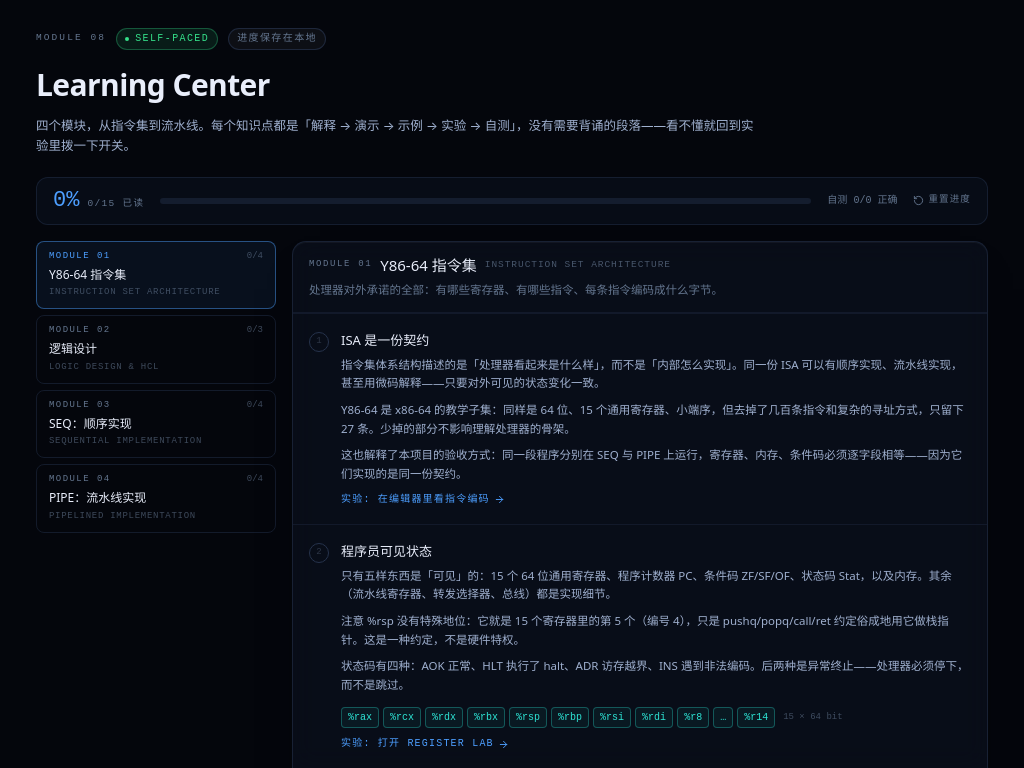
Test case: Learning Center › 标记已读会更新进度
Expected: the text "0%" is shown, [53,190,79,212]
Click the button named "标记为已读".
click(319, 342)  # box [309,332,329,352]
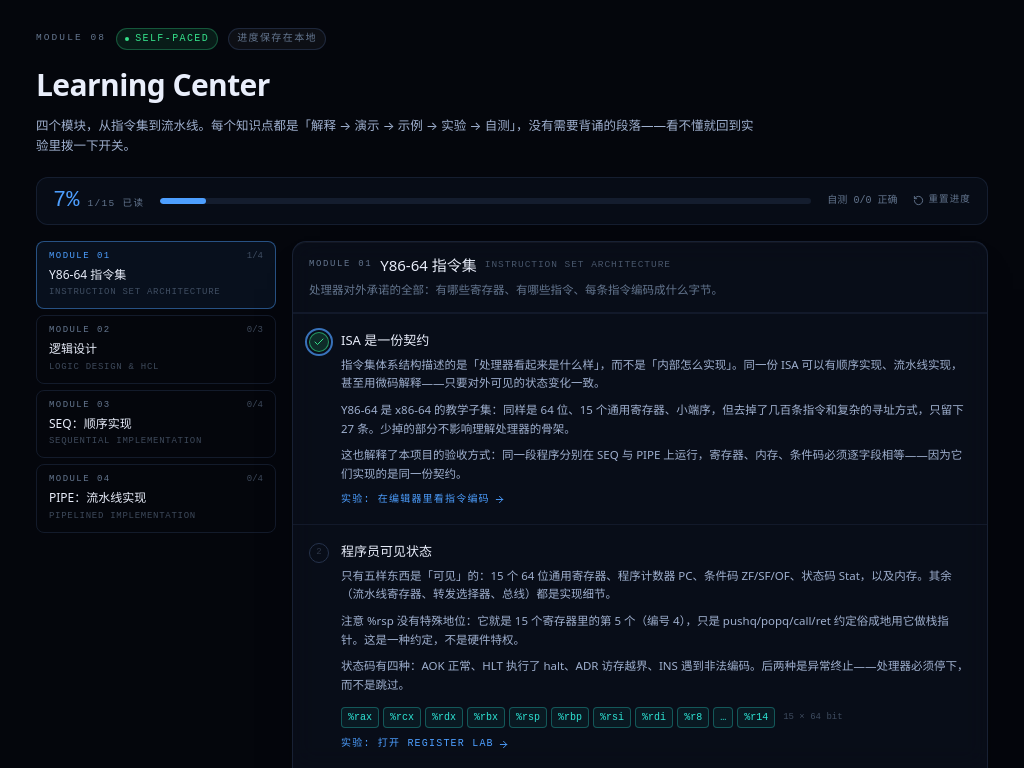
Expected: the text "0%" is gone
